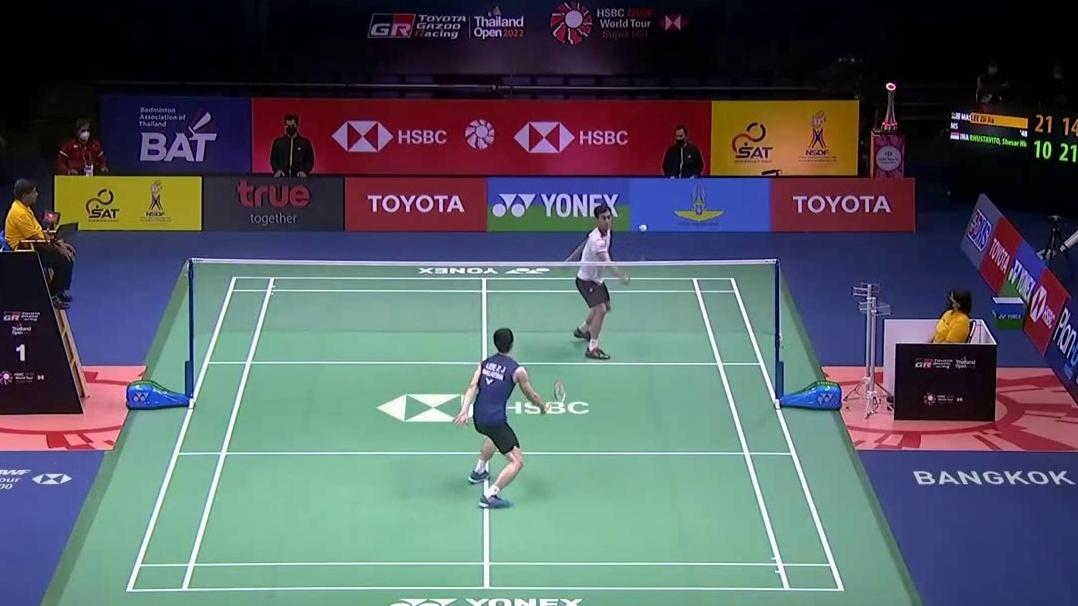racket: (541, 380, 567, 415), (628, 244, 650, 284)
shuttle: (637, 224, 648, 232)
